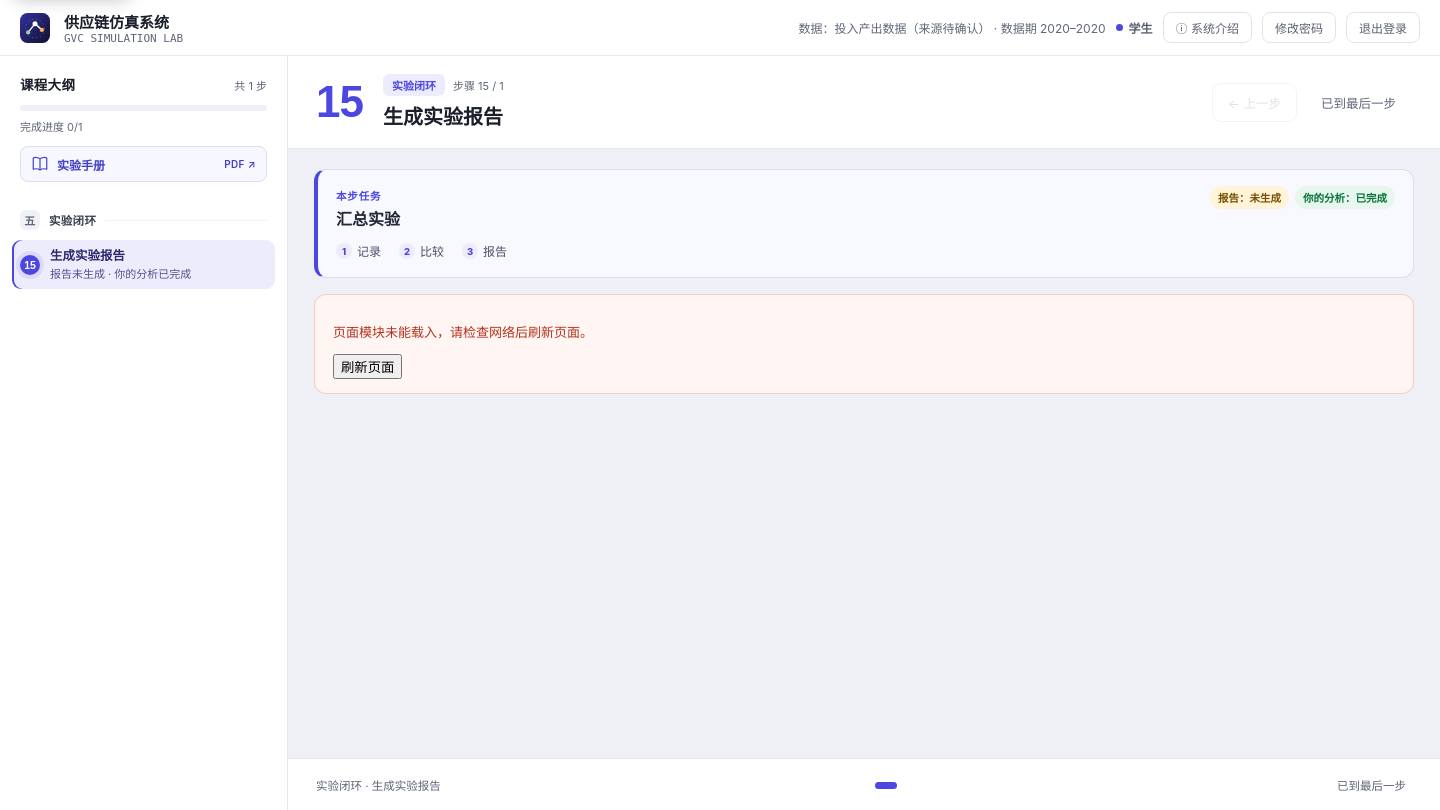
Test: authentication dependency recovery › logging out offline shows the login form in place instead of reloading onto the browser's error page
This screenshot has width=1440, height=810.
Step 1. Click the button "退出登录" → (1383, 28), box [1346, 12, 1420, 43]
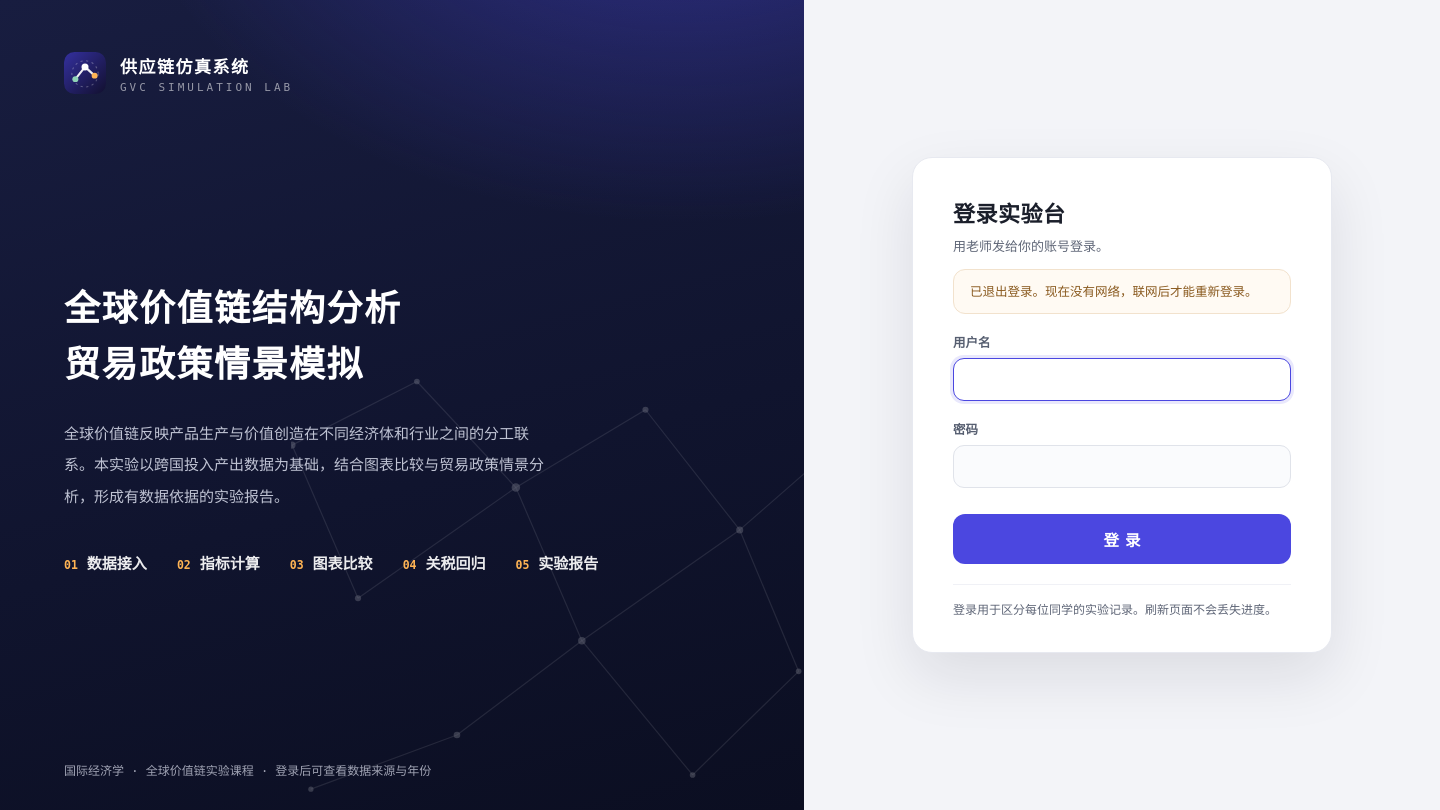
Result: the field labelled "用户名" is shown at [953, 358, 1291, 401]
